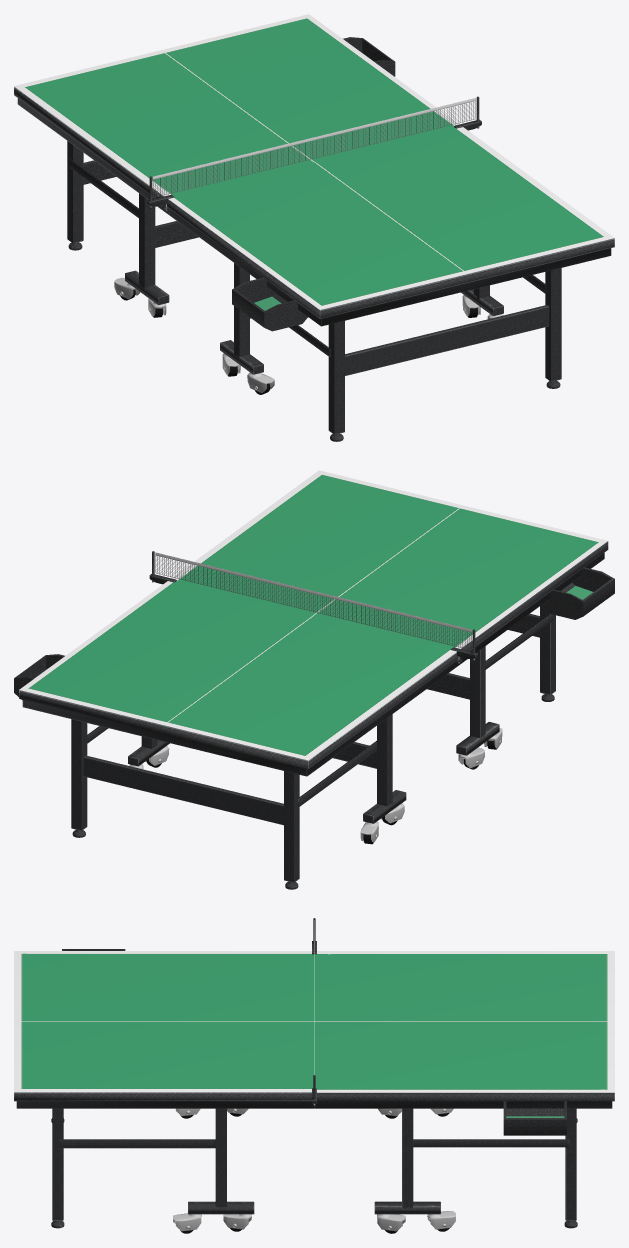
The model's file is table.fbx.
3 renders of one model, top to bottom at view 1: azimuth 30°, elevation 25°; view 2: azimuth 150°, elevation 25°; view 3: azimuth 270°, elevation 25°, orthographic.
Visible parts, largest first — view 1: pCube7; view 2: pCube7; view 3: pCube7.
Part boxes in pixels (x1,y1,x2,y2): pCube7: (14,14,614,441); pCube7: (14,470,614,889); pCube7: (14,918,614,1233).
Bounding box in the file's own units: 276 × 134 × 411.
Materials: 2 (2 with a texture image).
